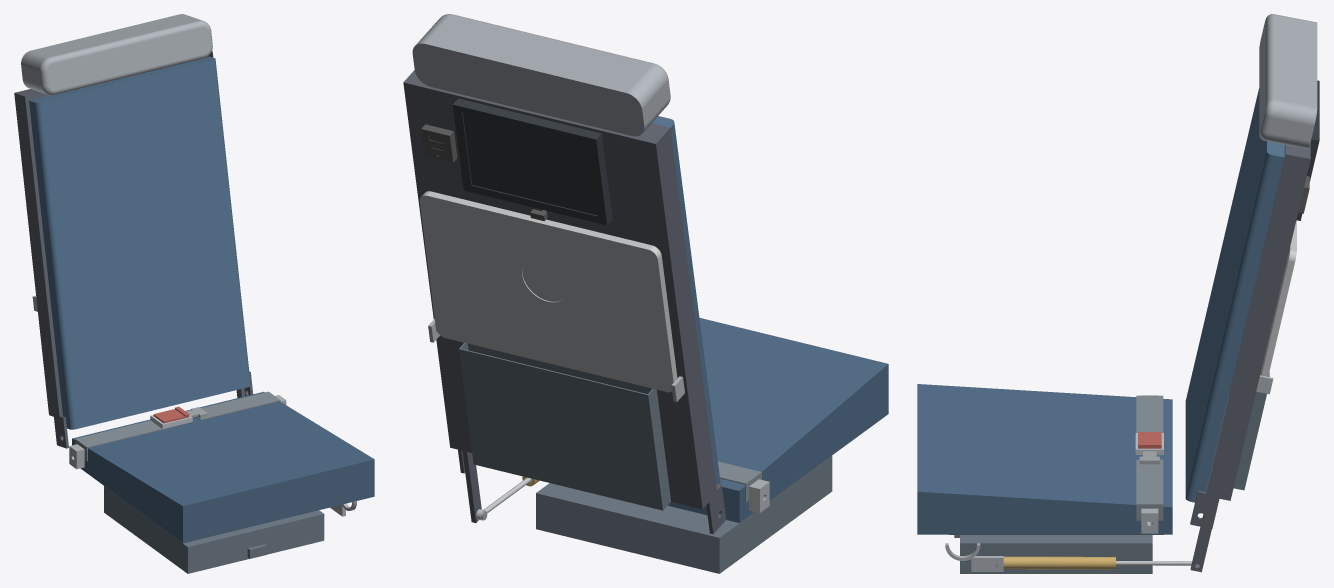
The model's file is step_07.glb.
3 views of the same model, side by side, from view 1: azimuth 30°, elevation 25°; view 2: azimuth 150°, elevation 25°; view 3: azimuth 270°, elevation 25° (orthographic). The views are drawn at different scales.
Visible parts, largest first — view 1: part__back cushion cover, part__cushion cover, part__head rest, part__life vest pouch, part__back shell, part__belt webbing, buckle side, part__belt webbing, adjuster side; view 2: part__tray table, part__back shell, part__literature pocket, part__cushion cover, part__head rest, part__entertainment screen, part__life vest pouch, part__back cushion cover, part__power and audio module, part__belt webbing, buckle side, part__belt anchor, left; view 3: part__cushion cover, part__back cushion cover, part__back shell, part__head rest, part__life vest pouch, part__recline lock, part__belt webbing, adjuster side, part__tray table, part__literature pocket, part__belt webbing, buckle side, part__recline lock bracket, part__entertainment screen.
Part boxes in pixels (box(x1,y1,x2,y2)): part__back cushion cover: box(29, 56, 250, 429); part__cushion cover: box(72, 391, 374, 543); part__head rest: box(21, 14, 212, 95); part__life vest pouch: box(104, 486, 324, 573); part__back shell: box(14, 50, 253, 448); part__belt webbing, buckle side: box(75, 420, 166, 461); part__belt webbing, adjuster side: box(196, 391, 280, 420); part__tray table: box(419, 191, 677, 392); part__back shell: box(403, 70, 726, 534); part__literature pocket: box(459, 342, 670, 510); part__cushion cover: box(668, 317, 888, 522); part__head rest: box(412, 14, 670, 136); part__entertainment screen: box(452, 98, 612, 225); part__life vest pouch: box(536, 455, 832, 573); part__back cushion cover: box(652, 116, 720, 485); part__power and audio module: box(421, 124, 457, 162); part__belt webbing, buckle side: box(718, 461, 761, 502); part__belt anchor, left: box(749, 479, 769, 512); part__cushion cover: box(917, 384, 1172, 534); part__back cushion cover: box(1185, 88, 1284, 502); part__back shell: box(1190, 143, 1310, 572); part__head rest: box(1259, 14, 1317, 148); part__life vest pouch: box(954, 535, 1152, 573); part__recline lock: box(1003, 556, 1115, 569); part__belt webbing, adjuster side: box(1136, 459, 1163, 520); part__tray table: box(1260, 220, 1296, 376); part__literature pocket: box(1233, 372, 1269, 490); part__belt webbing, buckle side: box(1136, 395, 1163, 432); part__recline lock bracket: box(945, 543, 1003, 571); part__entertainment screen: box(1296, 80, 1319, 220).
Bounding box in the file's own units: 492 × 936 × 709.
